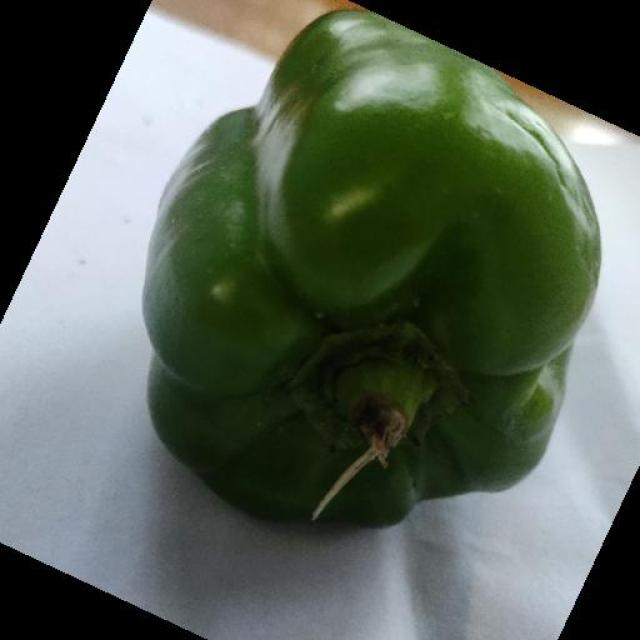Fresh_Capsicum: (157, 17, 576, 550)
